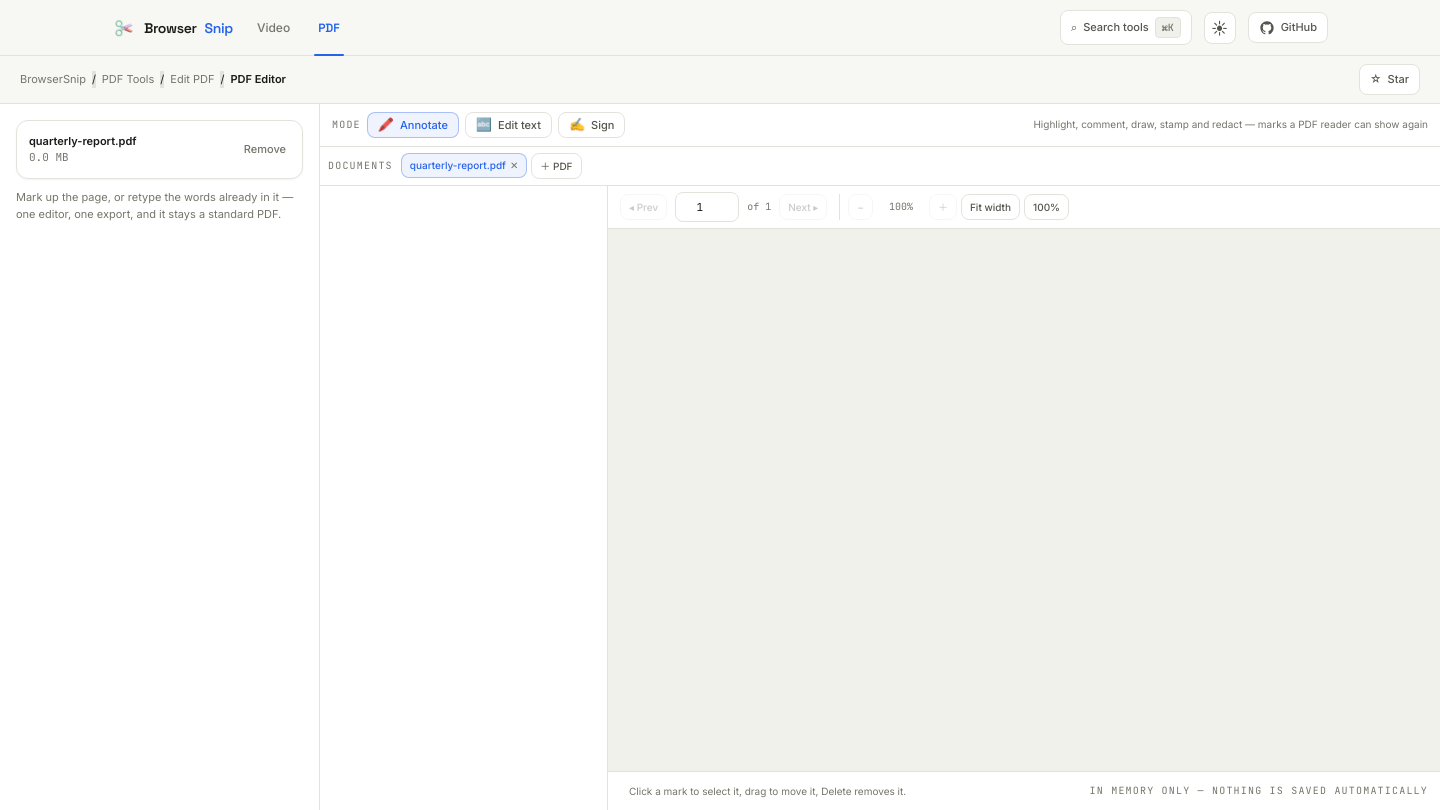
tool-card navigation › keeps the app mounted when the merged editor switches to the text mode
Click the button "🔤 Edit text". click: coordinates (508, 124)
box: [465,112,552,138]
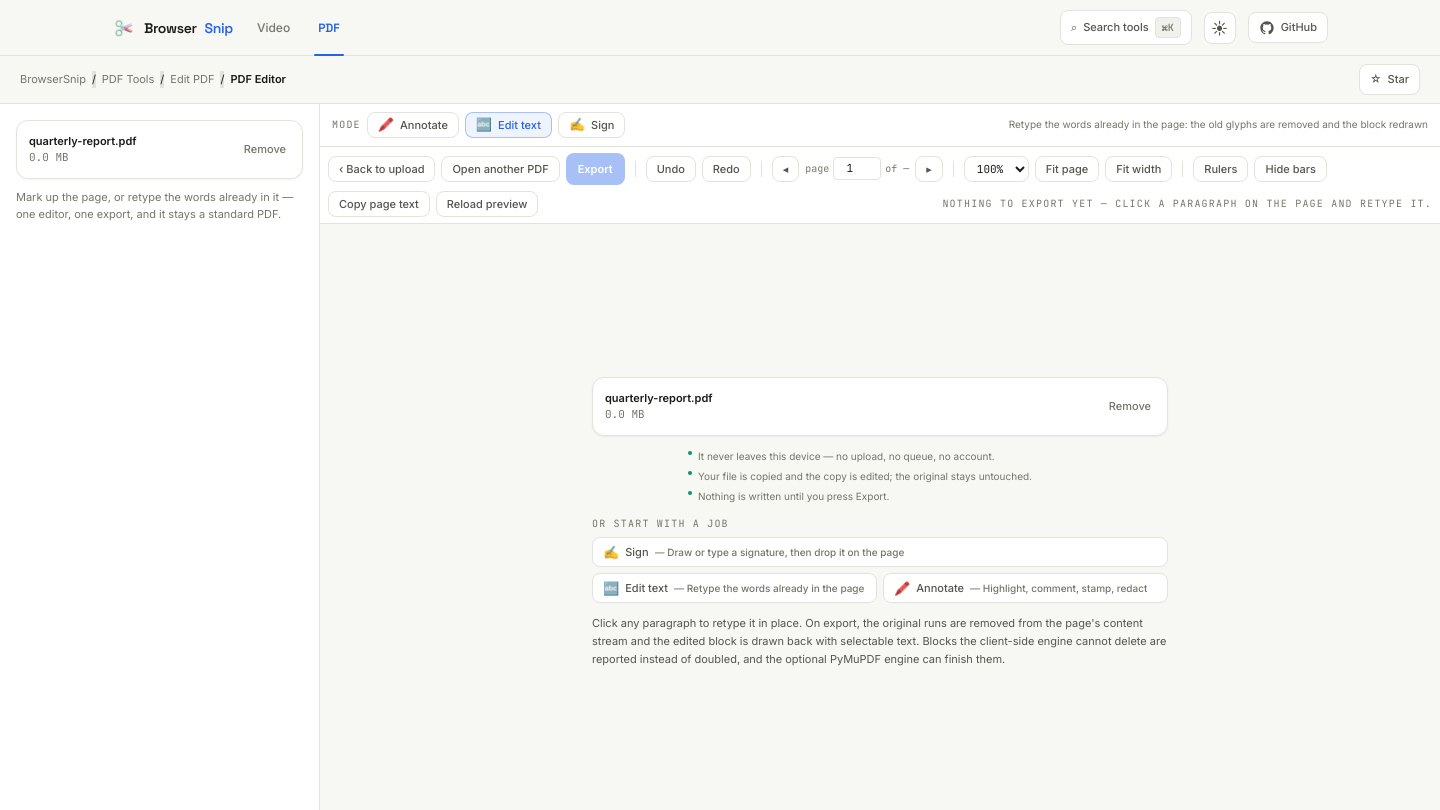
Now the element that starts with "‹ Back to upload" is shown
